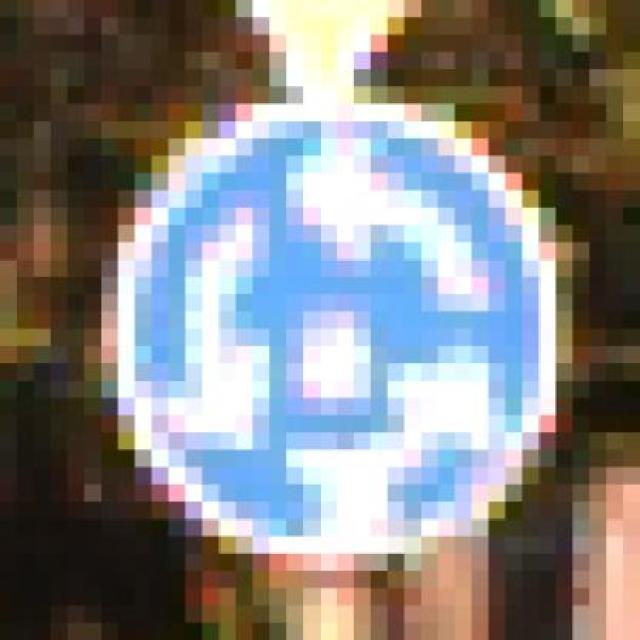Round-About: (84, 69, 607, 588)
